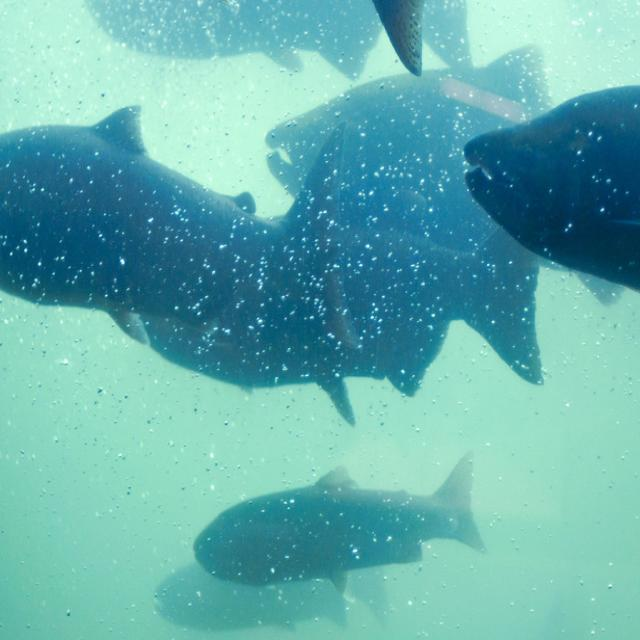Shark: (0, 109, 341, 338), (192, 454, 488, 586), (462, 84, 638, 289)
